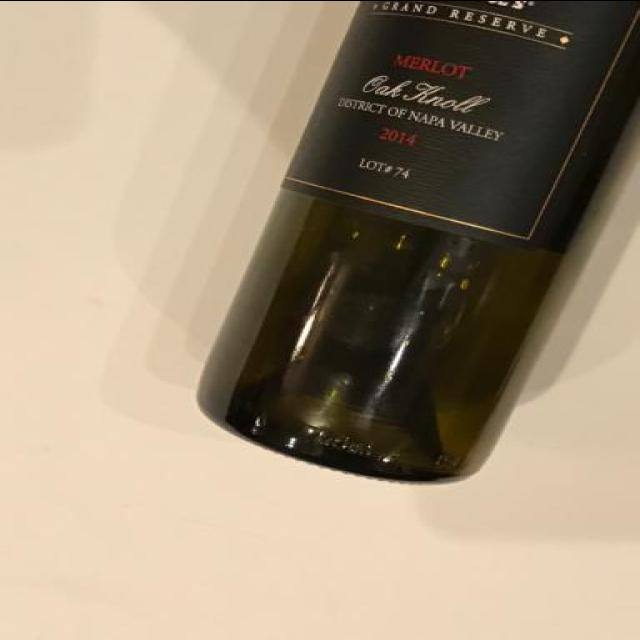Glass Bottle: (190, 1, 636, 488)
